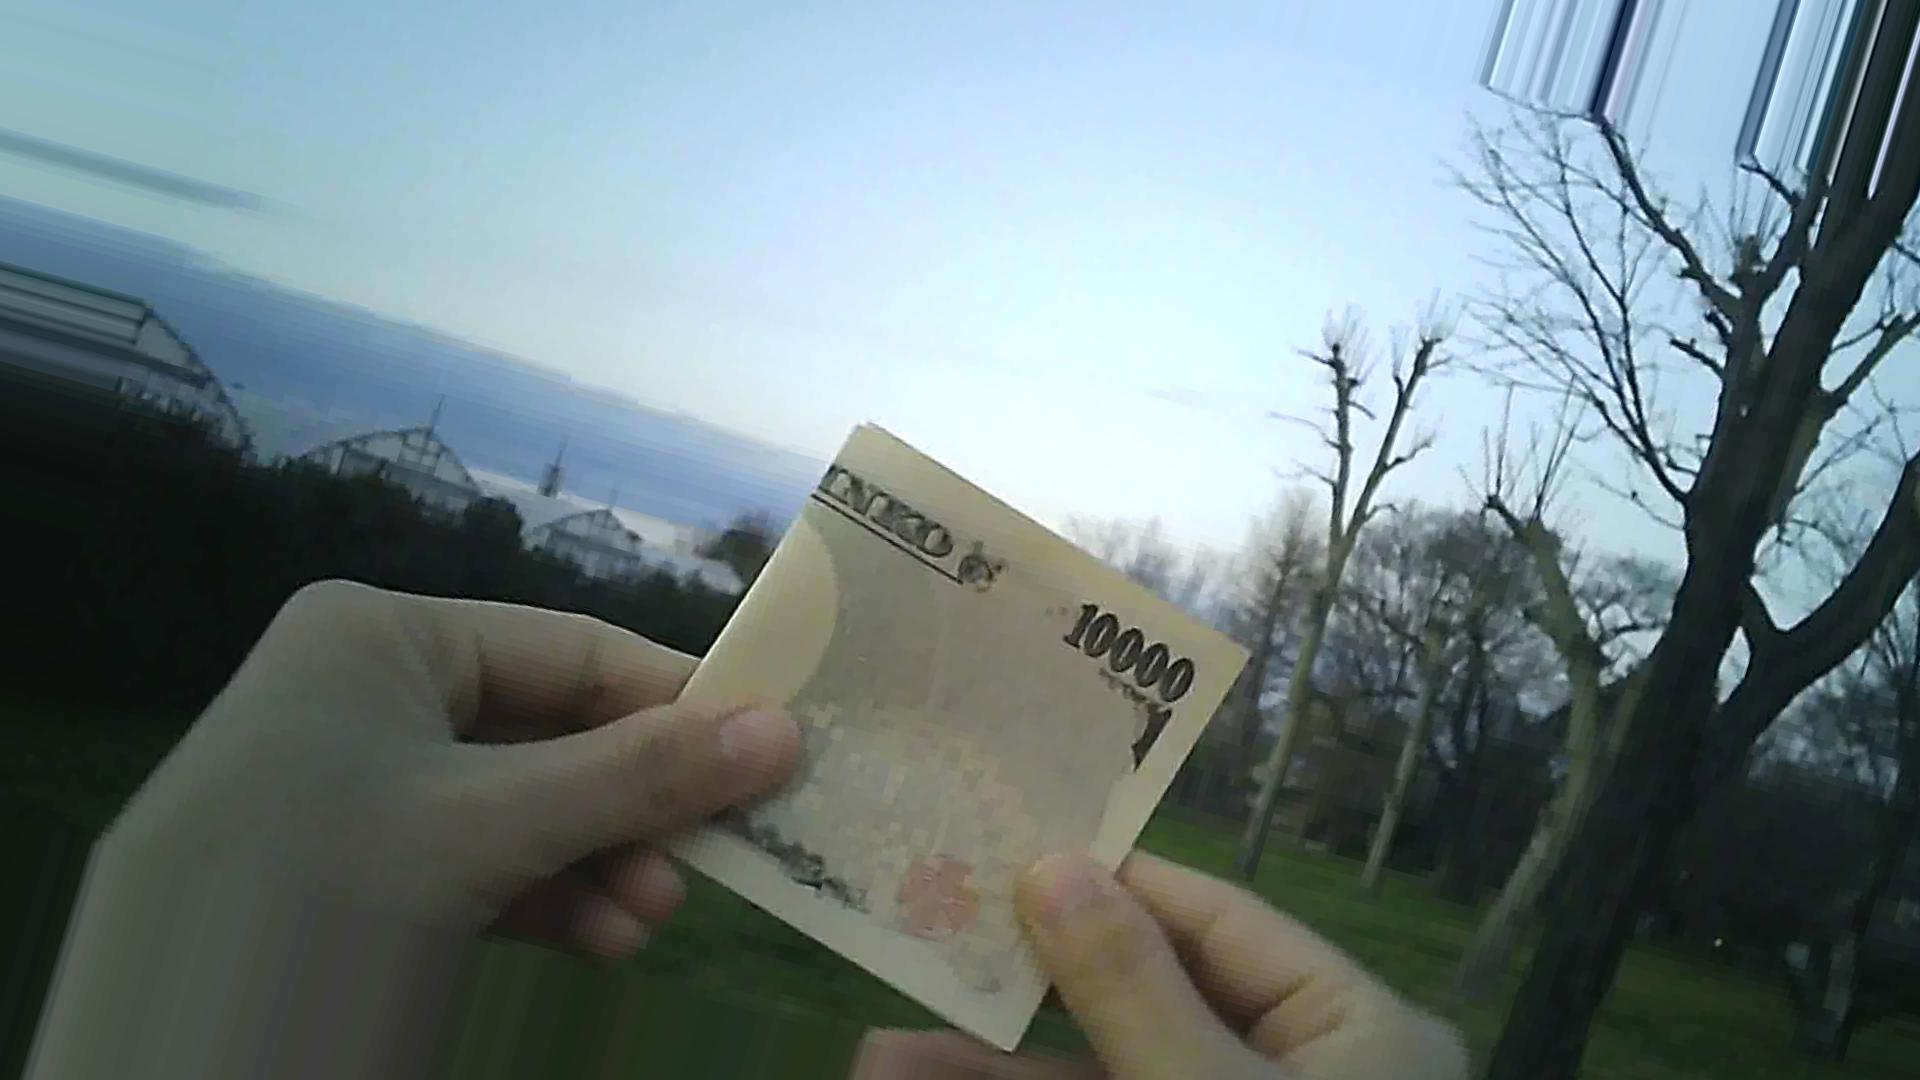10,000 Yen: (596, 402, 1270, 1058)
